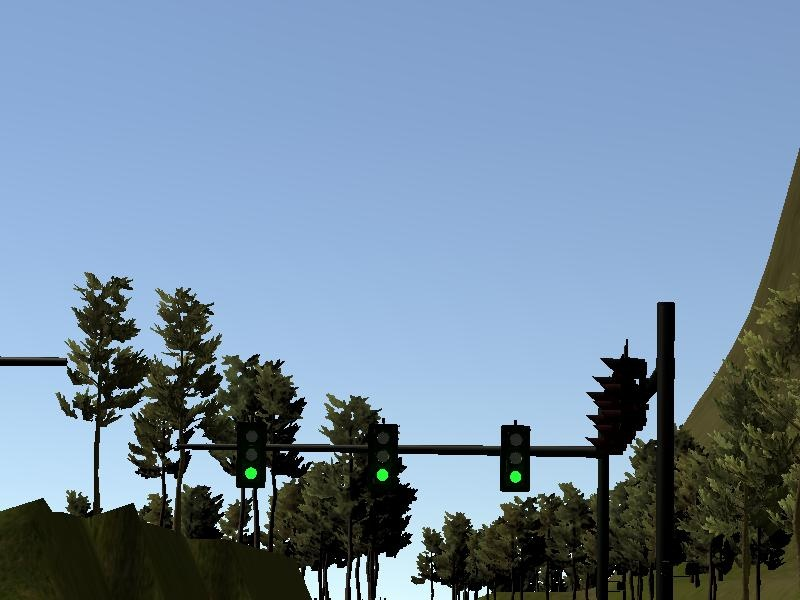GREEN: (501, 425, 531, 491), (368, 425, 397, 489), (237, 424, 265, 489)
